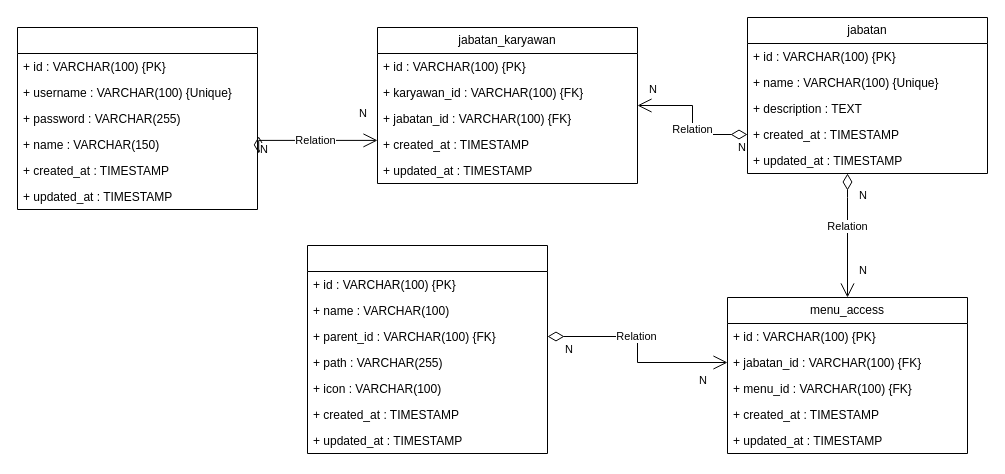
The diagram is 1005 pixels wide and 474 high, and some of its shapes have lost their labels. Each missing label, with the box of its shape:
karyawan: (16, 26, 258, 210)
menus: (306, 244, 548, 454)
